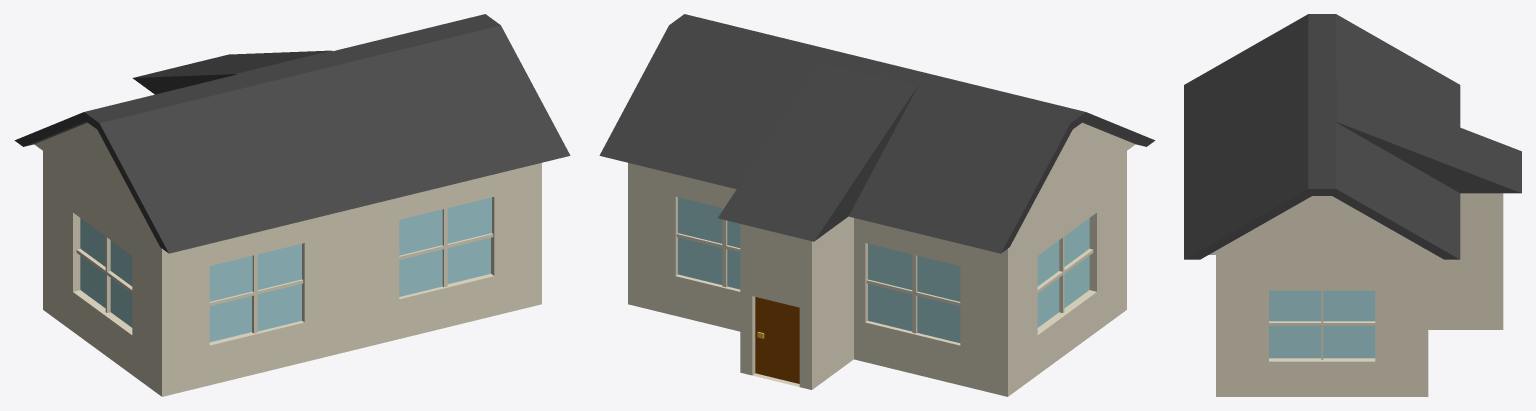
File: THouse.gltf
The picture shows the model from 3 angles, left to right: view 1: azimuth 30°, elevation 25°; view 2: azimuth 150°, elevation 25°; view 3: azimuth 270°, elevation 25°; orthographic projection. The views are drawn at different scales.
Parts seen in each view (by area): view 1: T-Shape; view 2: T-Shape; view 3: T-Shape.
Boxes of the visible parts, x1,y1,x2,y2 form: T-Shape: (14,14,570,396); T-Shape: (599,14,1155,396); T-Shape: (1184,14,1521,396).
Bounding box in the file's own units: 18.5 × 10.5 × 15.1.
